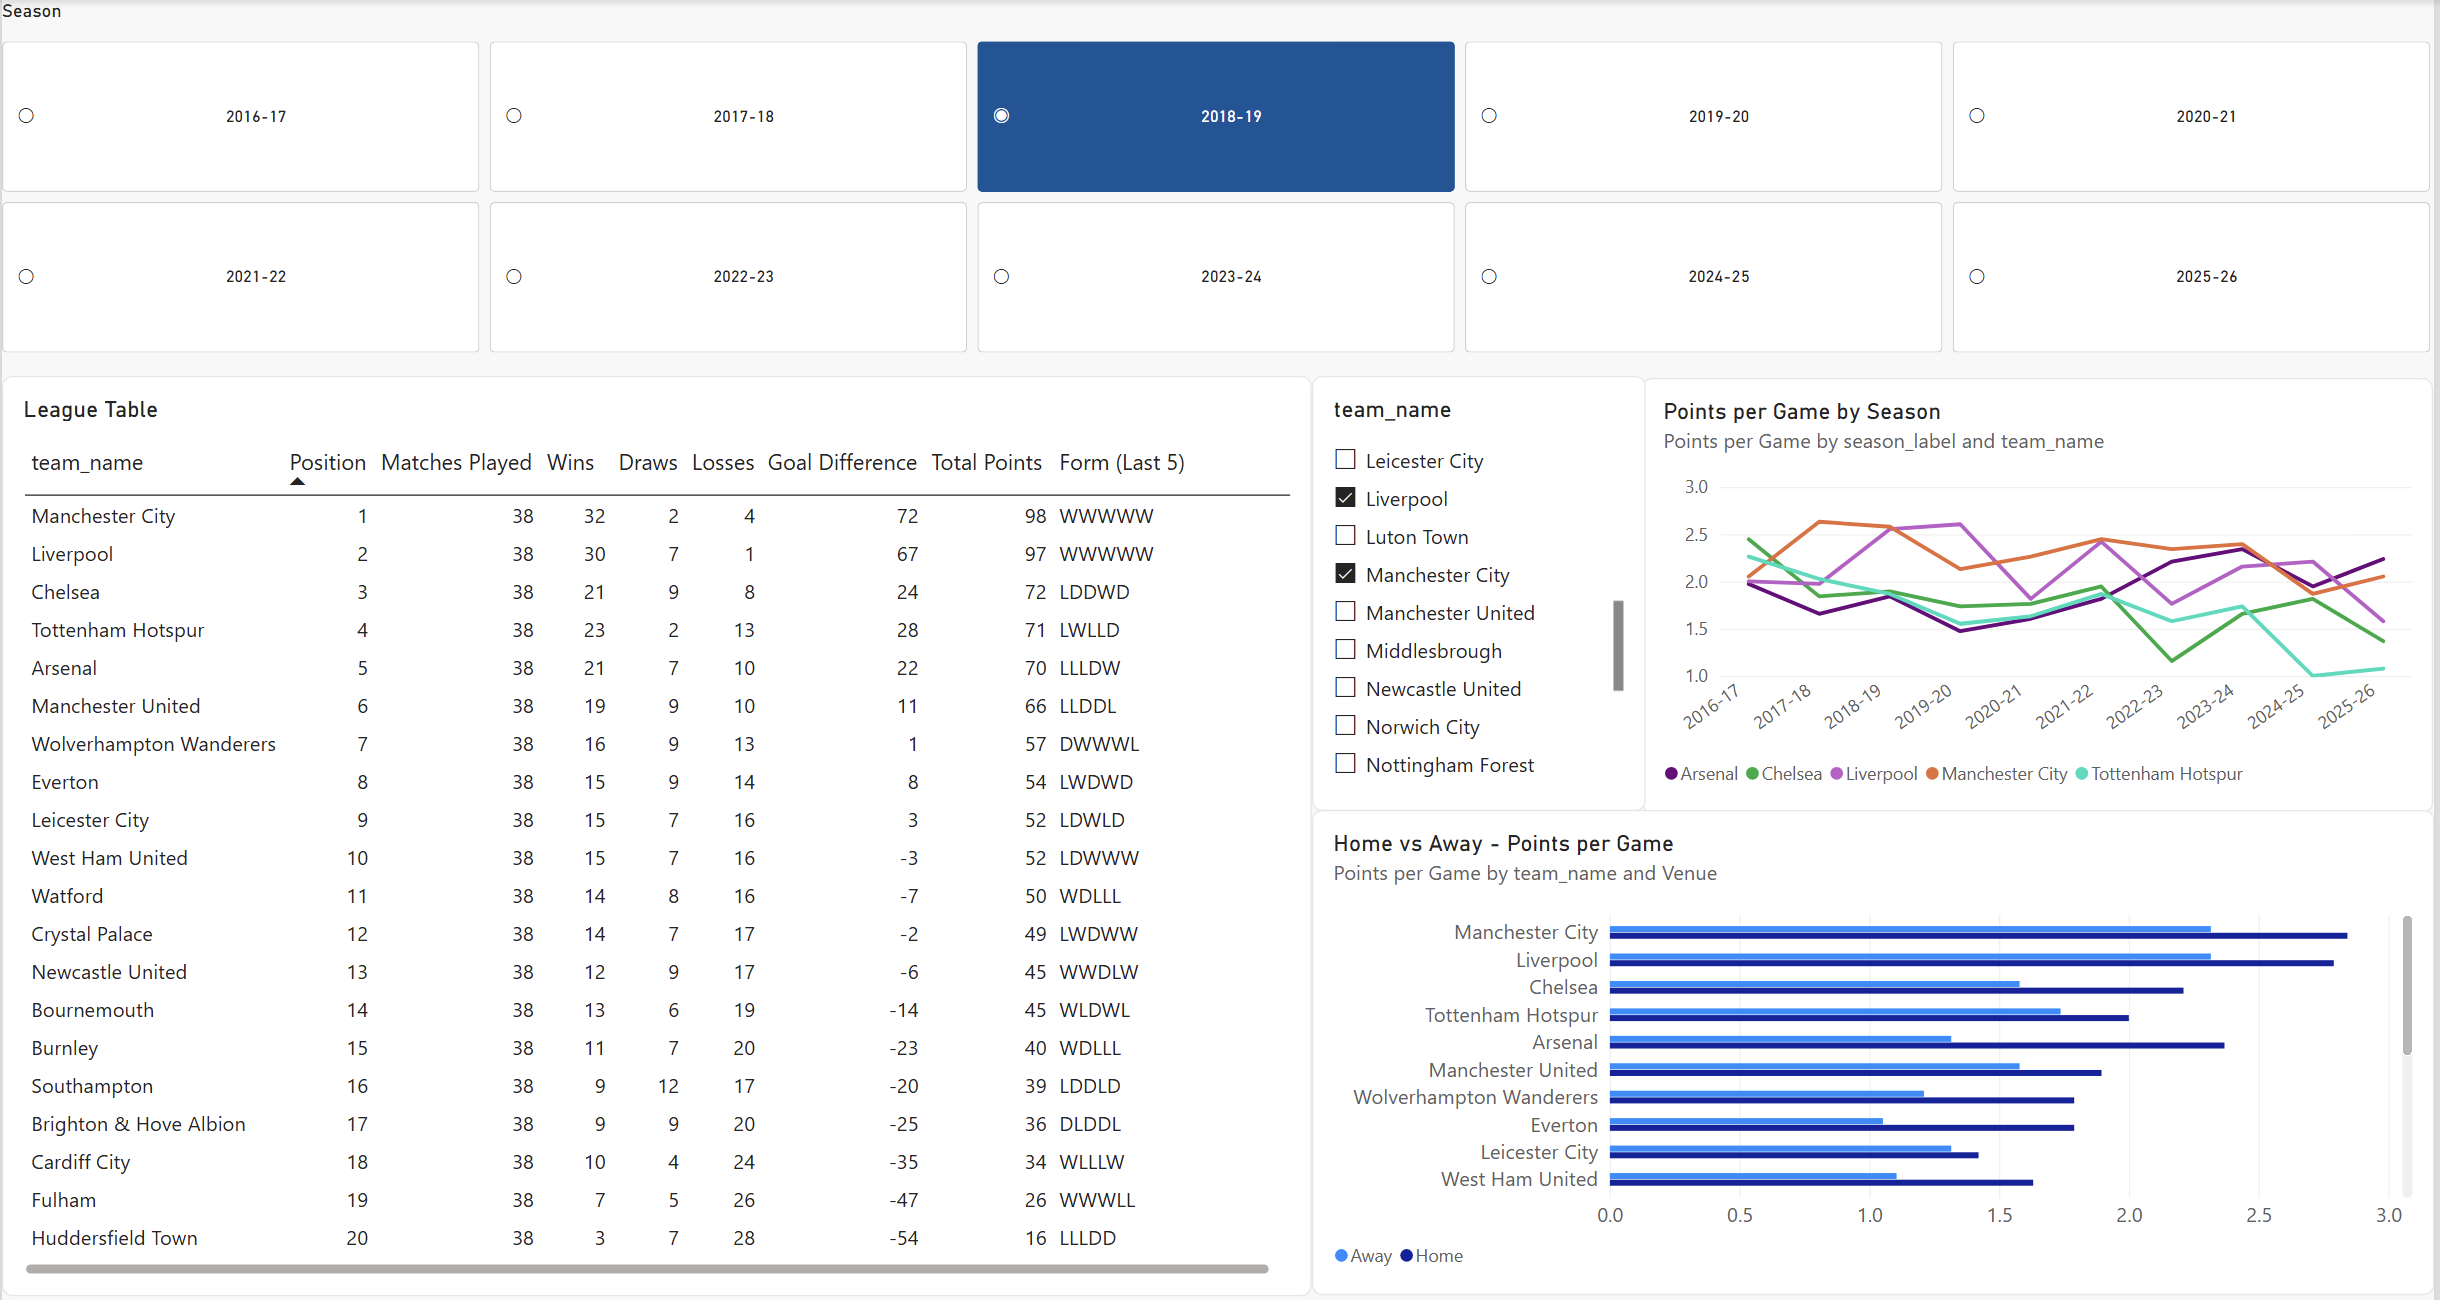

The page's visual inventory and layout, read from the dashboard file:
{"tool":"powerbi","page":{"name":"Page 1","canvas":[1920,1080],"ordinal":0},"visuals":[{"type":"advancedSlicerVisual","title":"Season","fields":{"Values":["dim_season.season_label"]},"box":[0,0,1920,279.5],"z":0},{"type":"tableEx","title":"League Table","fields":{"Values":["dim_team.team_name","_Measures.Position","_Measures.Matches Played","_Measures.Wins","_Measures.Draws","_Measures.Losses","_Measures.Goal Difference","_Measures.Total Points","_Measures.Form (Last 5)"]},"box":[0,296.7,1034.2,726.4],"z":1},{"type":"lineChart","title":"Points per Game by Season","fields":{"Category":["dim_season.season_label"],"Series":["dim_team.team_name"],"Y":["_Measures.Points per Game"]},"box":[1295.5,299,624.5,343.3],"z":2},{"type":"listSlicer","fields":{"Values":["dim_team.team_name"]},"box":[1034.2,296.7,263.5,343.3],"z":3},{"type":"clusteredBarChart","title":"Home vs Away - Points per Game","fields":{"Category":["dim_team.team_name"],"Series":["fact_team_match.Venue"],"Y":["_Measures.Points per Game"]},"box":[1034.2,640,885.8,383.1],"z":4}]}

Visuals, with their boxes on the page's 1920x1080 design canvas (x1, y1, x2, y2). These are canvas units, not pixel positions in the 2440x1300 screenshot, which may show the page scaled, cropped or inside an application window:
"Season" advancedSlicerVisual: left=0, top=0, right=1920, bottom=280
"League Table" tableEx: left=0, top=297, right=1034, bottom=1023
"Points per Game by Season" lineChart: left=1296, top=299, right=1920, bottom=642
listSlicer - dim_team.team_name: left=1034, top=297, right=1298, bottom=640
"Home vs Away - Points per Game" clusteredBarChart: left=1034, top=640, right=1920, bottom=1023
